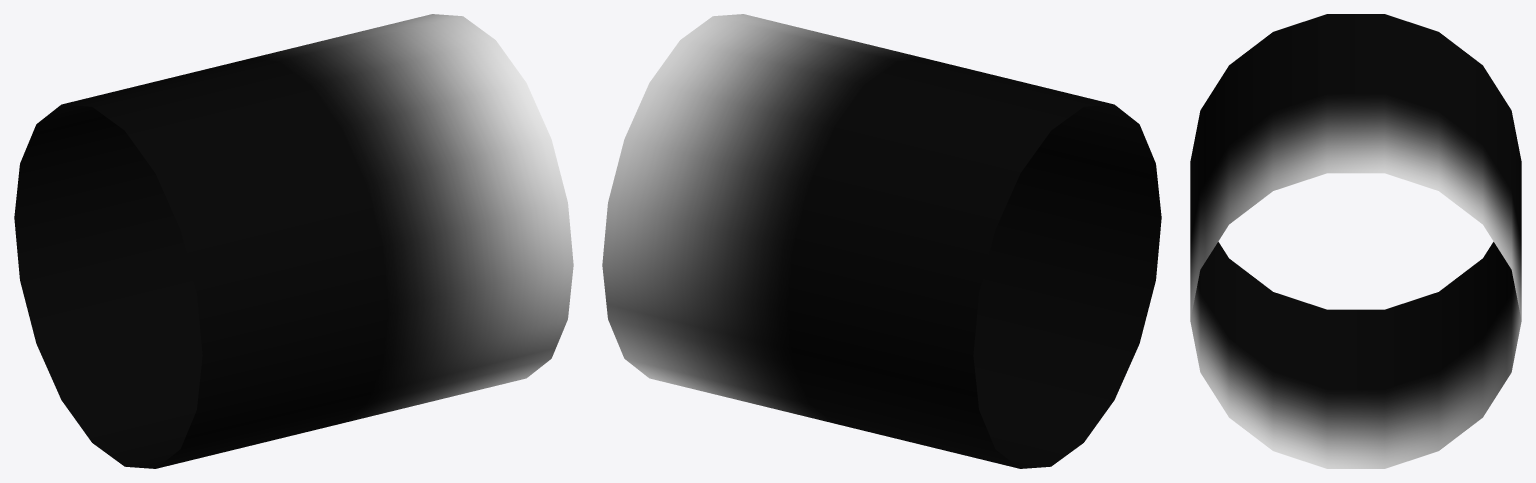
File: Cyliner.fbx
The picture shows the model from 3 angles, left to right: view 1: azimuth 30°, elevation 25°; view 2: azimuth 150°, elevation 25°; view 3: azimuth 270°, elevation 25°; orthographic projection. The views are drawn at different scales.
Visible parts, largest first — view 1: Cylinder001; view 2: Cylinder001; view 3: Cylinder001.
Boxes of the visible parts, <box> form: Cylinder001: <box>14,14,573,468</box>; Cylinder001: <box>602,14,1161,468</box>; Cylinder001: <box>1190,14,1521,468</box>.
Bounding box in the file's own units: 51.85 × 44.88 × 45.57.
